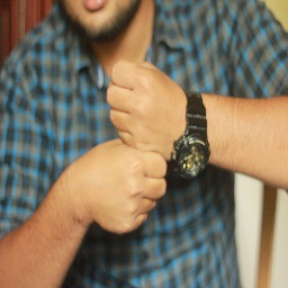G: (81, 56, 187, 237)
